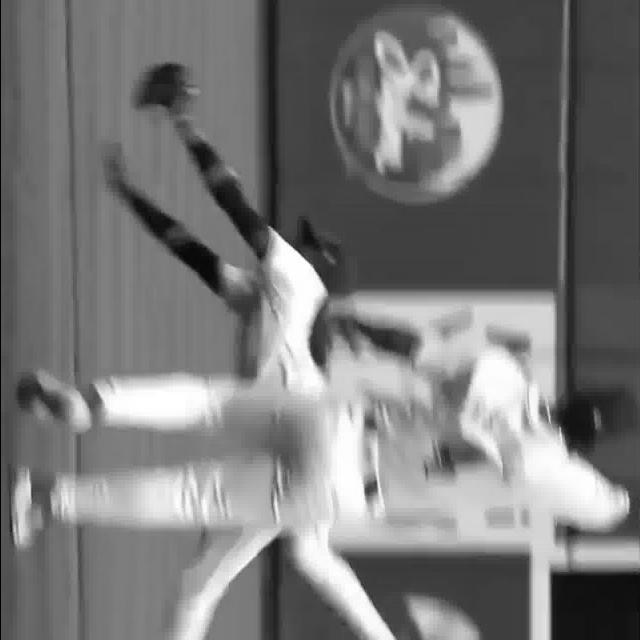baseball_glove: (134, 58, 200, 110)
shoe: (17, 376, 93, 438), (8, 463, 45, 552)
